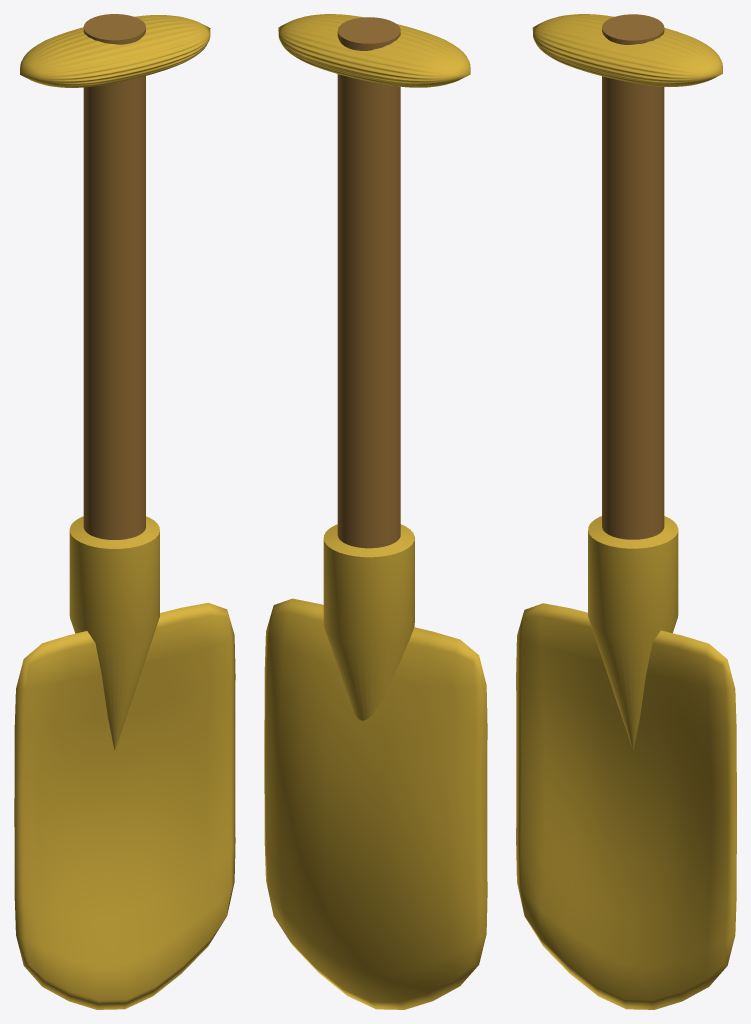
Rendered from Shovel.fbx.
3 views of the same model, side by side, from view 1: azimuth 30°, elevation 25°; view 2: azimuth 150°, elevation 25°; view 3: azimuth 330°, elevation 25° (orthographic).
Parts seen in each view (by area): view 1: Cube.003, Cylinder, Cylinder.002; view 2: Cube.003, Cylinder, Cylinder.002; view 3: Cube.003, Cylinder, Cylinder.002.
Part boxes in pixels (bbox=[...]): Cube.003: bbox=[14, 602, 235, 1009]; Cylinder: bbox=[69, 14, 159, 749]; Cylinder.002: bbox=[20, 15, 210, 87]; Cube.003: bbox=[264, 598, 487, 1009]; Cylinder: bbox=[323, 17, 414, 720]; Cylinder.002: bbox=[278, 14, 470, 87]; Cube.003: bbox=[516, 603, 736, 1009]; Cylinder: bbox=[588, 14, 678, 749]; Cylinder.002: bbox=[532, 14, 722, 86].
Bounding box in the file's own units: 49.12 × 208 × 20.14.
